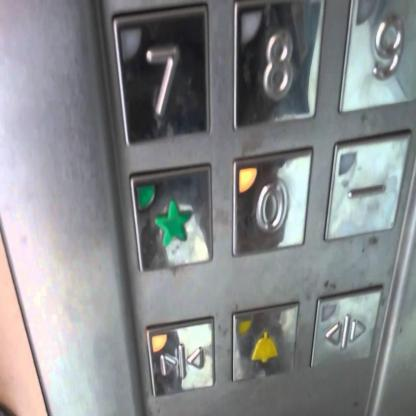-: (323, 129, 411, 242)
0: (231, 146, 312, 261)
7: (112, 5, 212, 148)
8: (230, 0, 326, 129)
9: (339, 0, 414, 118)
alarm: (230, 300, 298, 387)
close: (145, 312, 216, 396)
open: (308, 284, 382, 375)
s: (126, 164, 214, 276)
